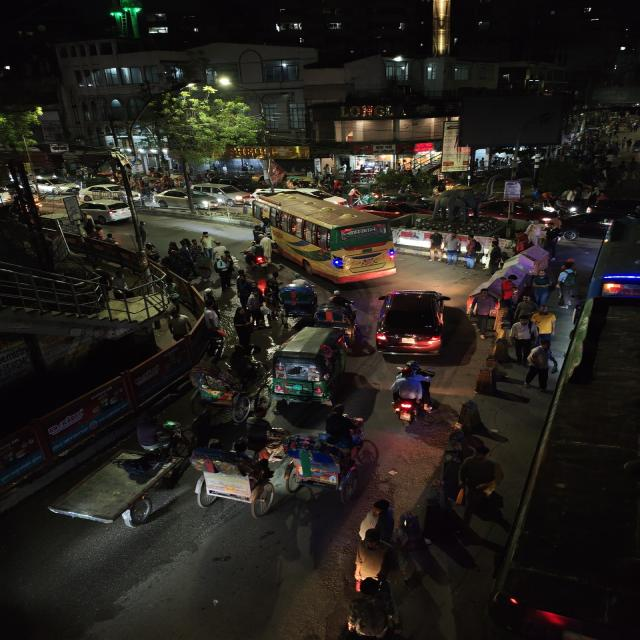bus: (251, 189, 401, 284)
car: (371, 287, 455, 357), (176, 181, 253, 209), (78, 198, 135, 224)
cng: (266, 322, 349, 406)
motorcycle: (387, 362, 440, 428), (244, 242, 270, 268)
pedestrian: (452, 445, 507, 511), (523, 342, 556, 393), (467, 288, 498, 340), (506, 316, 536, 362), (531, 307, 559, 347), (555, 260, 578, 307), (528, 271, 553, 306), (483, 237, 507, 273), (442, 231, 464, 267), (462, 235, 484, 270), (426, 230, 447, 262), (215, 256, 235, 289), (542, 226, 562, 258), (499, 273, 519, 303), (514, 294, 535, 320), (198, 230, 215, 260)
rickshaw: (44, 446, 187, 533), (190, 437, 288, 517), (284, 427, 375, 500), (183, 361, 255, 419)
